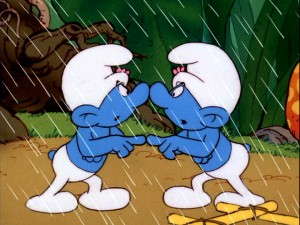smurf: (23, 43, 147, 215), (147, 42, 267, 210)
